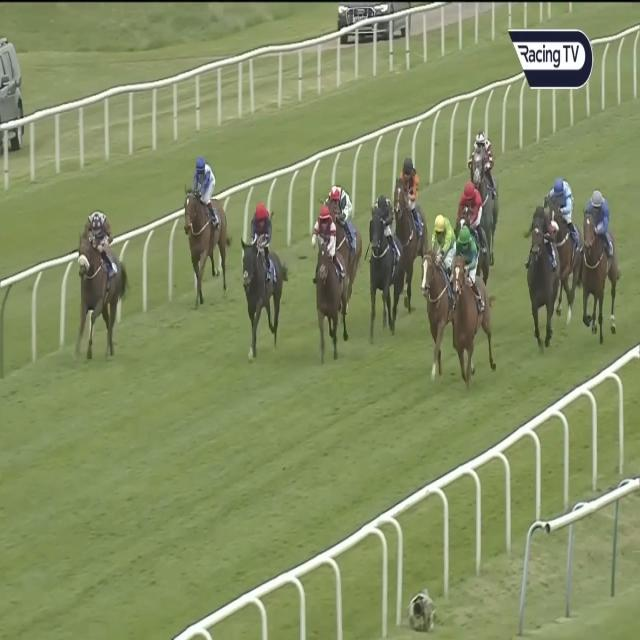horses-racing: (75, 203, 122, 345), (185, 151, 230, 296), (244, 195, 282, 349), (309, 203, 349, 347), (526, 202, 562, 349), (425, 212, 456, 370), (583, 186, 613, 345), (395, 148, 429, 276), (368, 185, 398, 328), (471, 131, 504, 233), (548, 173, 580, 275), (328, 181, 361, 269), (454, 171, 486, 239)
